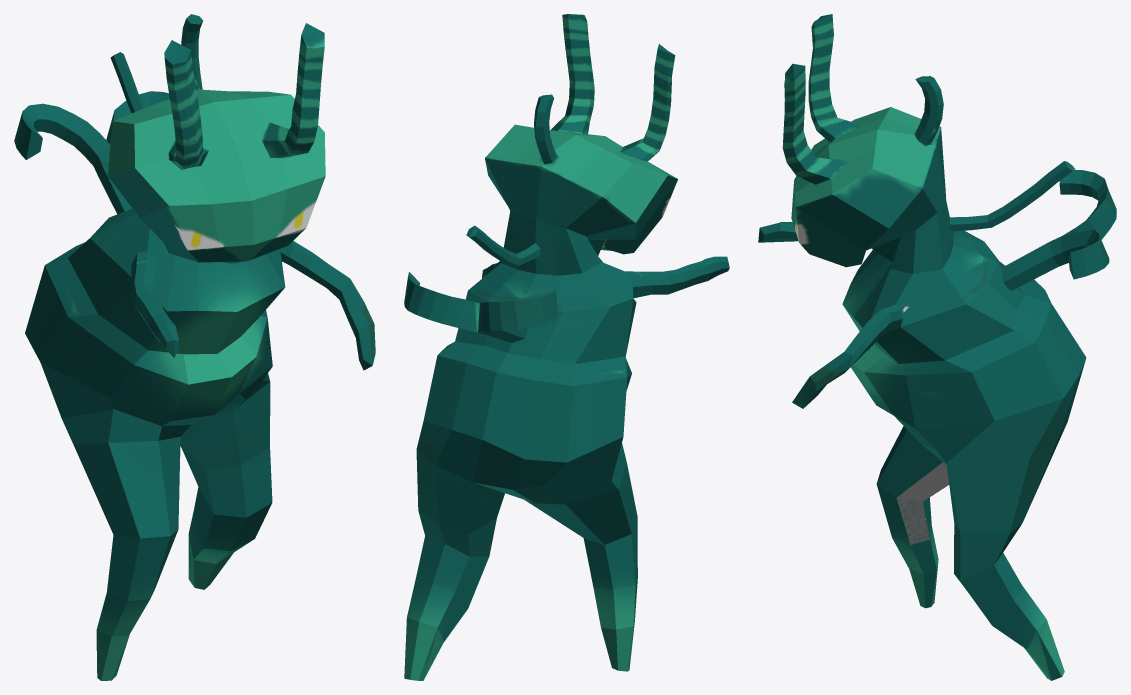
Rendered from monstruo1_caminar_87.obj.
3 views of the same model, side by side, from view 1: azimuth 30°, elevation 25°; view 2: azimuth 150°, elevation 25°; view 3: azimuth 270°, elevation 25° (orthographic). The views are drawn at different scales.
Parts seen in each view (by area): view 1: Monstruo_basico; view 2: Monstruo_basico; view 3: Monstruo_basico.
Boxes of the visible parts, x1=… form: Monstruo_basico: x1=14, y1=14, x2=375, y2=680; Monstruo_basico: x1=404, y1=14, x2=729, y2=680; Monstruo_basico: x1=758, y1=14, x2=1116, y2=680.
Size of the model in its own units: 0.3671 by 0.9932 by 0.5396.
